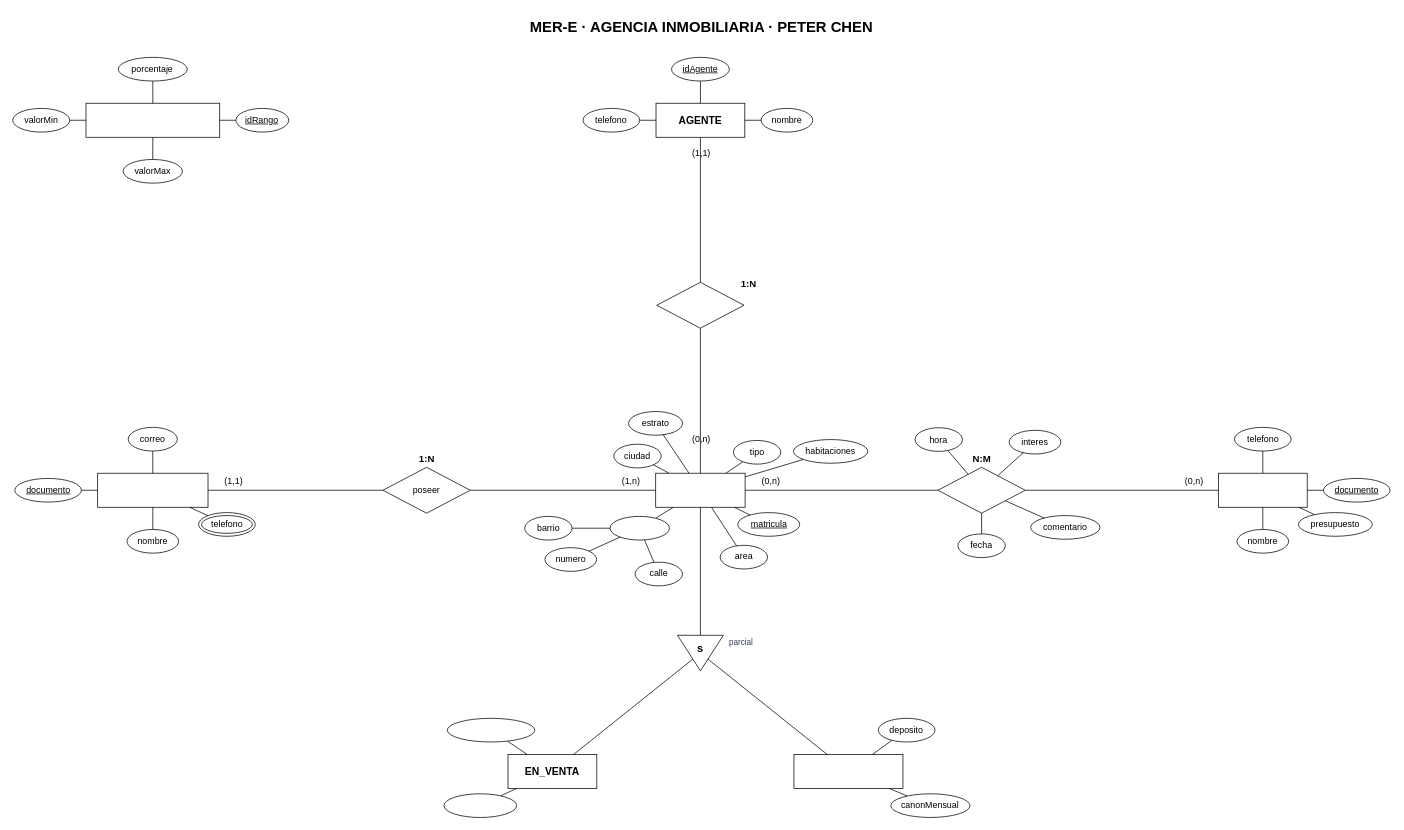
Some shapes in this 1404 by 830 pixel diagram are drawn without their labels. Here are the shapes that lost their labels. From the top down, the centre of each, then its label:
the point at 152,119: RANGO_COMISION
the point at 700,305: gestionar
the point at 152,489: PROPIETARIO
the point at 700,489: INMUEBLE
the point at 981,490: visitar
the point at 1262,489: CLIENTE
the point at 639,528: direccion
the point at 491,730: aceptaPermuta
the point at 848,771: EN_ARRIENDO
the point at 480,805: precioVenta
